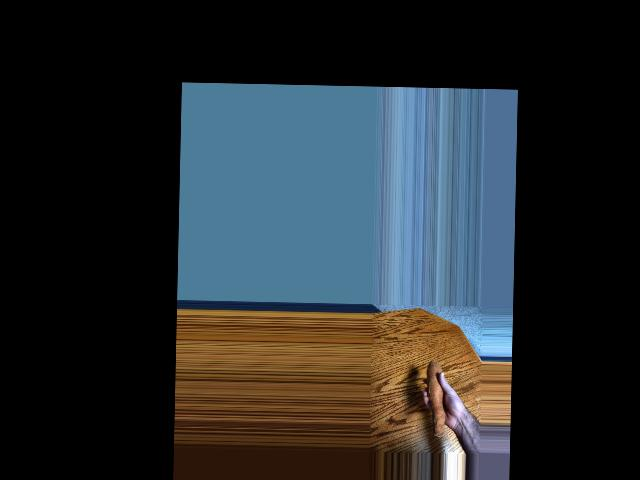sweet_potato: (425, 356, 450, 438)
